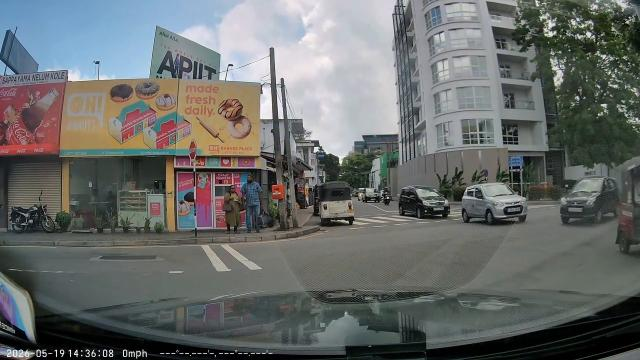illegal parking: (314, 174, 362, 226)
